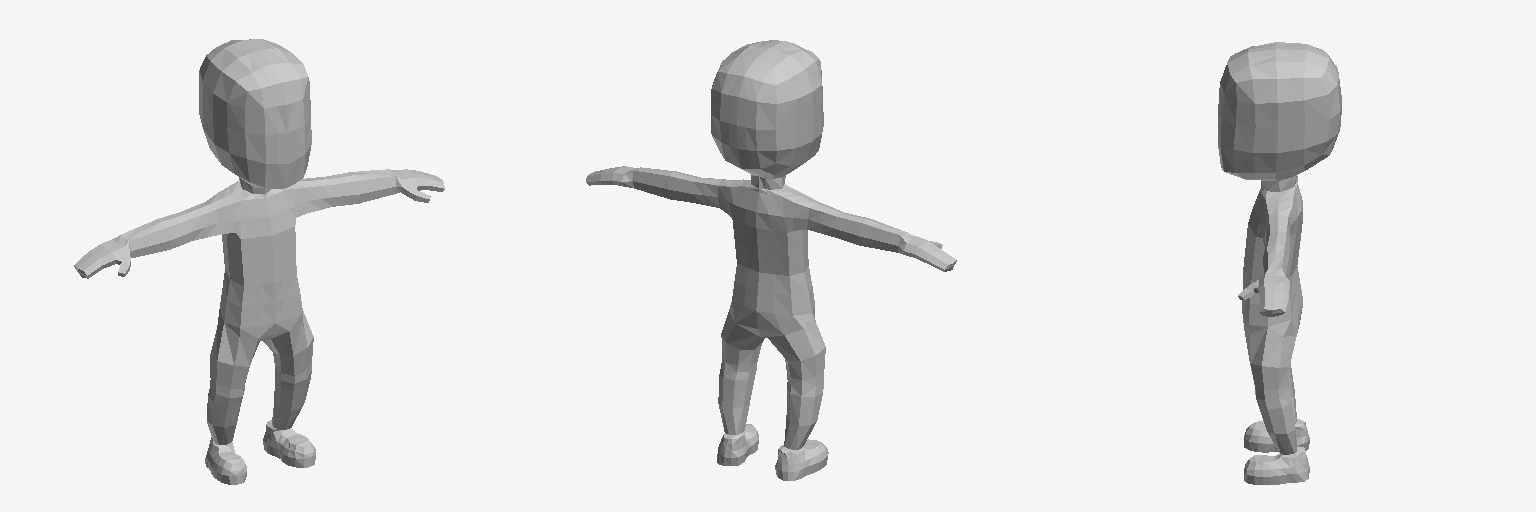
File: person.obj
3 views of the same model, side by side, from view 1: azimuth 30°, elevation 25°; view 2: azimuth 150°, elevation 25°; view 3: azimuth 270°, elevation 25° (orthographic).
Visible parts, largest first — view 1: characterMedium; view 2: characterMedium; view 3: characterMedium.
Part boxes in pixels (x1,y1,x2,y2): characterMedium: (74,39,444,484); characterMedium: (586,40,956,480); characterMedium: (1218,42,1341,484).
Bounding box in the file's own units: 13.63 × 14.76 × 4.04.